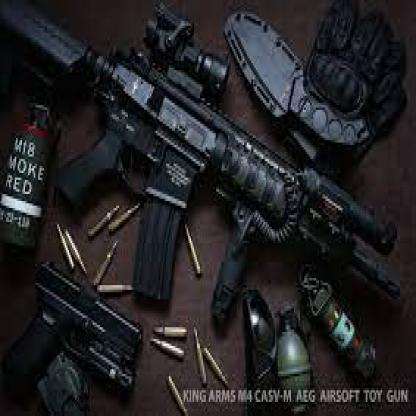Grenade: (300, 266, 380, 388), (0, 99, 58, 258), (275, 306, 317, 414)
Gun: (0, 0, 405, 323)
Knife: (223, 10, 373, 148)
Pistol: (0, 257, 144, 413)
